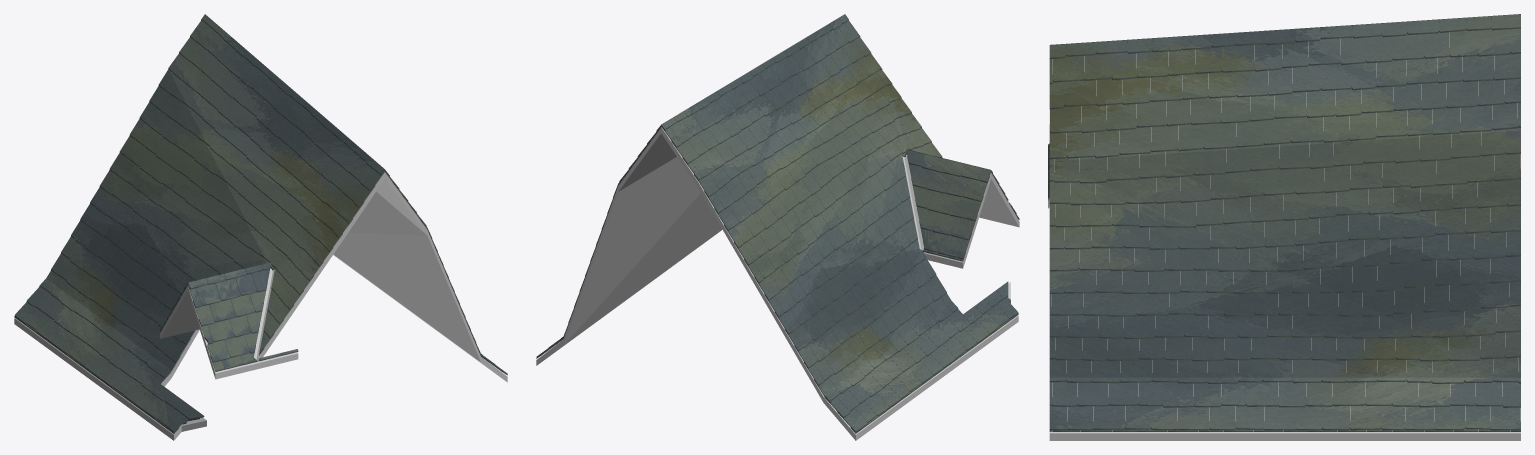
Rendered from CM_SlateRoofKit01_Fitted_Hero.fbx.
The picture shows the model from 3 angles, left to right: view 1: azimuth 30°, elevation 25°; view 2: azimuth 150°, elevation 25°; view 3: azimuth 270°, elevation 25°; orthographic projection. The views are drawn at different scales.
Parts seen in each view (by area): view 1: CM_SlateRoofKit01_Fitted_Hero_Slate, CM_SlateRoofKit01_Fitted_Hero_Underlay; view 2: CM_SlateRoofKit01_Fitted_Hero_Slate, CM_SlateRoofKit01_Fitted_Hero_Underlay; view 3: CM_SlateRoofKit01_Fitted_Hero_Slate, CM_SlateRoofKit01_Fitted_Hero_Underlay.
Part boxes in pixels (x1,y1,x2,y2): CM_SlateRoofKit01_Fitted_Hero_Slate: [14, 14, 507, 433]; CM_SlateRoofKit01_Fitted_Hero_Underlay: [14, 172, 507, 440]; CM_SlateRoofKit01_Fitted_Hero_Slate: [536, 14, 1019, 433]; CM_SlateRoofKit01_Fitted_Hero_Underlay: [536, 127, 1019, 440]; CM_SlateRoofKit01_Fitted_Hero_Slate: [1048, 14, 1520, 431]; CM_SlateRoofKit01_Fitted_Hero_Underlay: [1048, 32, 1520, 440].
Bounding box in the file's own units: 5.55 × 4.52 × 5.55.
